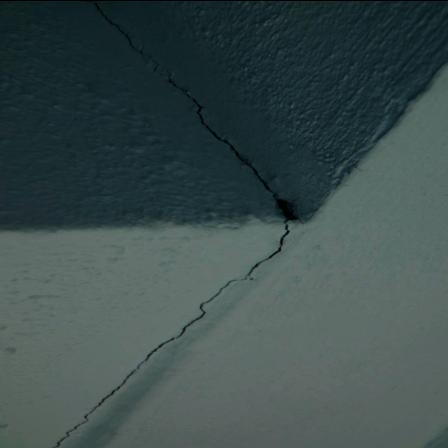crack: (49, 0, 315, 448)
